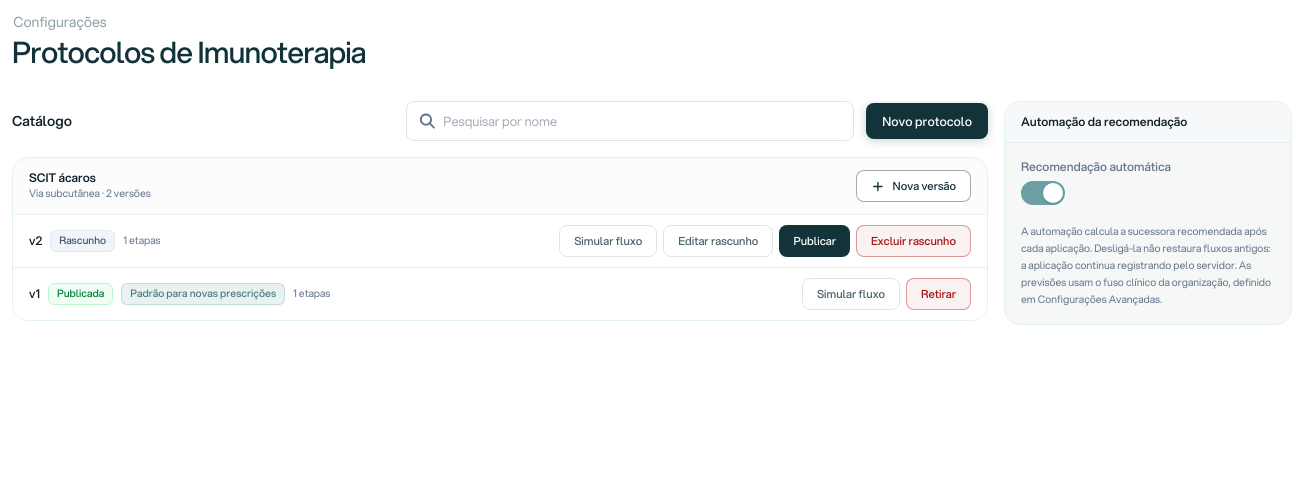
Test: catálogo de protocolos › preserva o rascunho local no conflito de revisão
Expected: the heading "SCIT ácaros" is shown, [29,169,96,186]
Click the button "Editar rascunho". click: coordinates (718, 241)
box: [663,225,773,257]
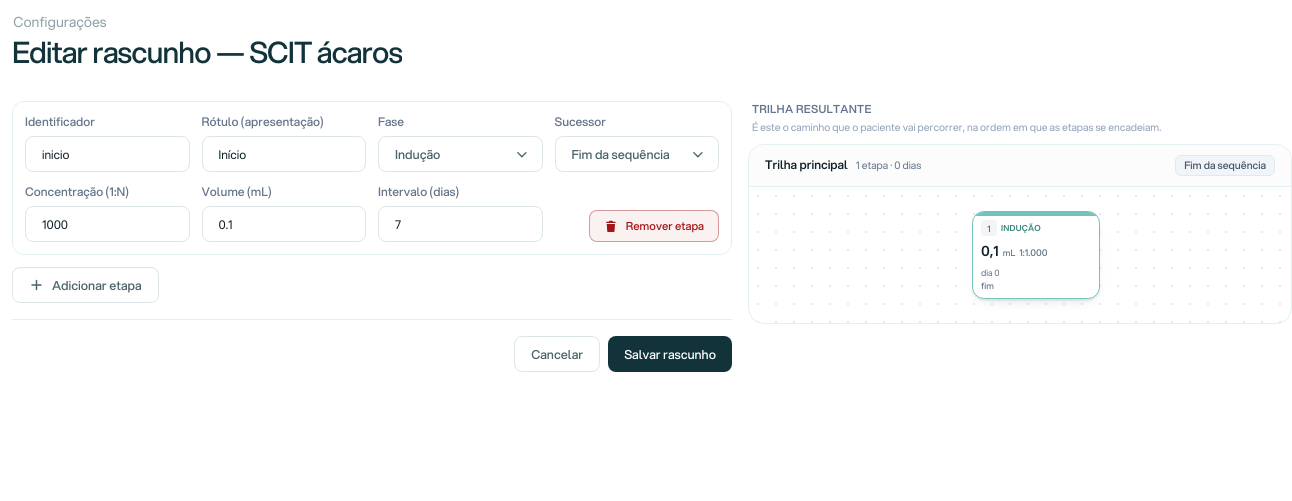
Replace the text in the field showing "Início" below "Rótulo (apresentação)" with "Início editado". click: coordinates (284, 154)
box: [202,136,366,172]
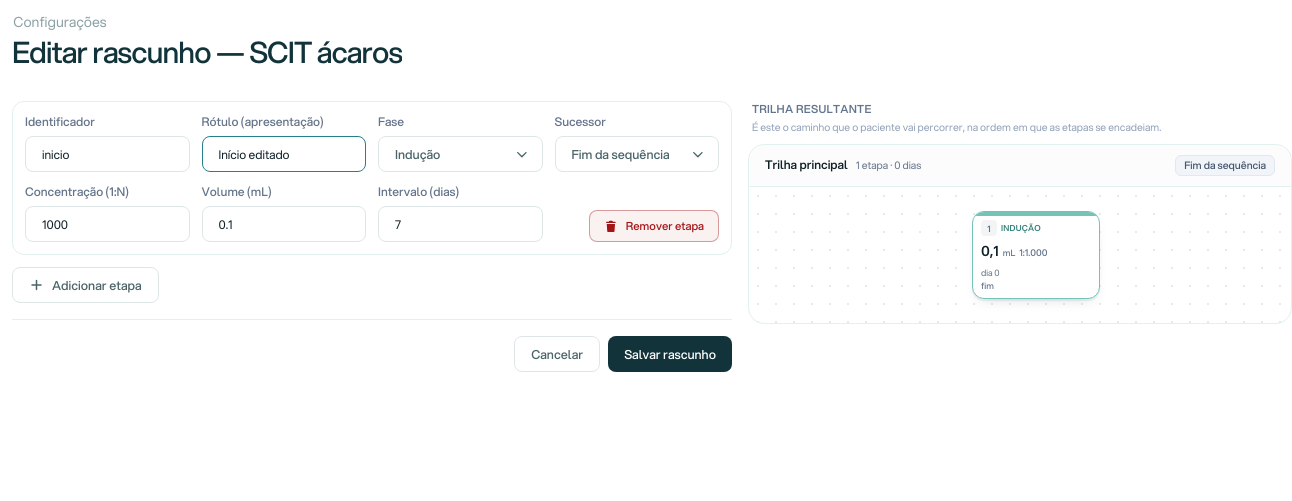
Click the button "Salvar rascunho". click: coordinates (670, 354)
box: [608,336,732,372]
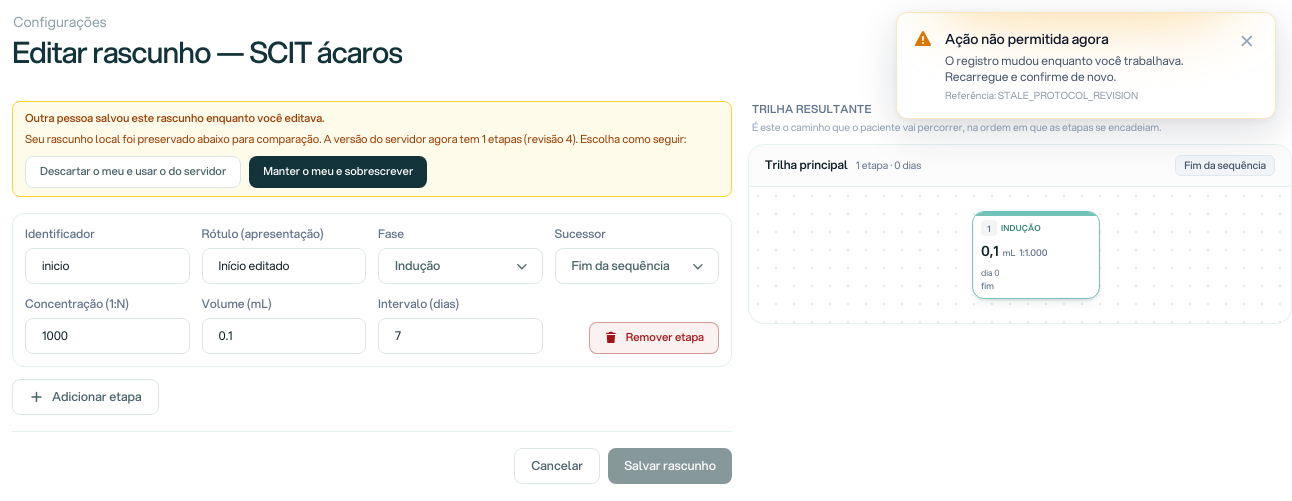
Expected: the text "Outra pessoa salvou este rascunho enquanto você editava." is shown, [25,110,324,126]
Expected: the button "Salvar rascunho" is disabled, [608,448,732,484]
Click the button "Manter o meu e sobrescrever". click: coordinates (338, 172)
box: [249,156,427,188]
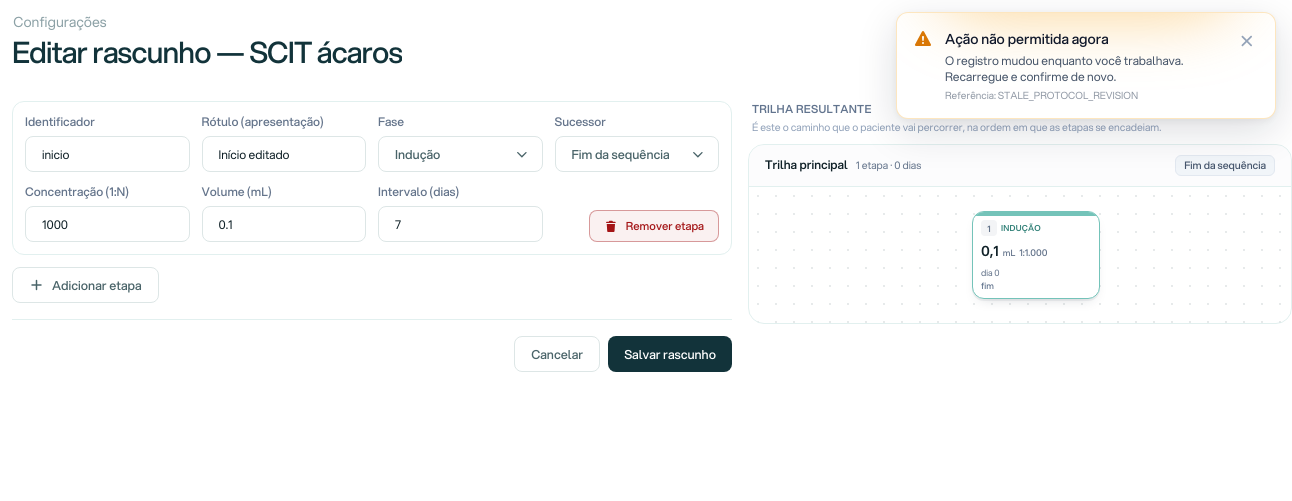
Expected: the button "Salvar rascunho" is enabled, [608,336,732,372]
